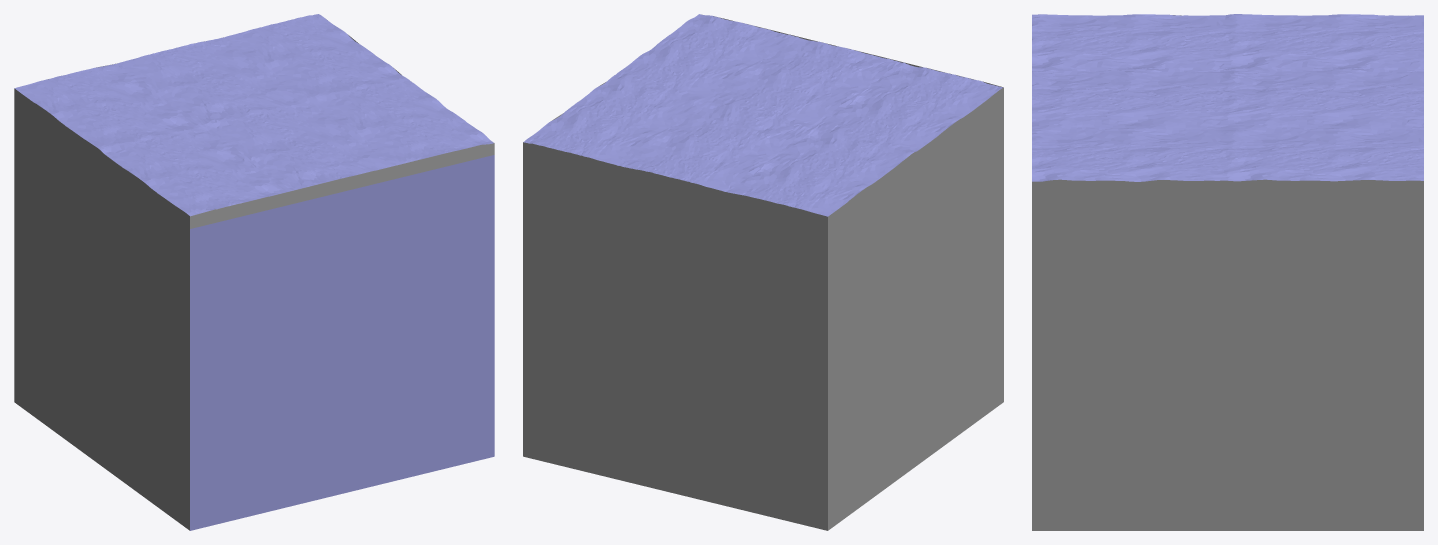
Rendered from ocean_sample_A_25K_pixeled.fbx.
3 views of the same model, side by side, from view 1: azimuth 30°, elevation 25°; view 2: azimuth 150°, elevation 25°; view 3: azimuth 270°, elevation 25° (orthographic). The views are drawn at different scales.
Visible parts, largest first — view 1: ocean_sample_A_25k_bottom, ocean_sample_A_25K_top; view 2: ocean_sample_A_25k_bottom, ocean_sample_A_25K_top; view 3: ocean_sample_A_25k_bottom, ocean_sample_A_25K_top.
Part boxes in pixels (<box>): ocean_sample_A_25k_bottom: <box>14,100,494,530</box>; ocean_sample_A_25K_top: <box>14,14,494,228</box>; ocean_sample_A_25k_bottom: <box>523,100,1003,530</box>; ocean_sample_A_25K_top: <box>523,14,1003,228</box>; ocean_sample_A_25k_bottom: <box>1032,194,1423,530</box>; ocean_sample_A_25K_top: <box>1032,14,1423,194</box>.
Size of the model in its own units: 4205 by 4165 by 4205.
